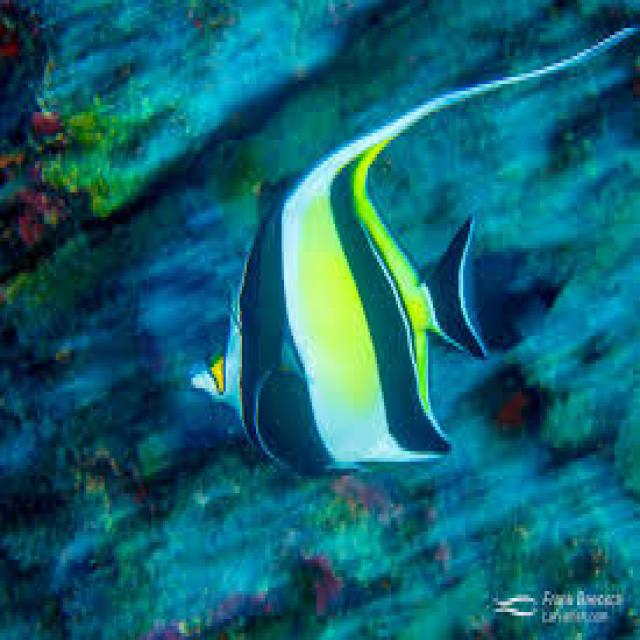MorishIdol: (186, 18, 638, 479)
